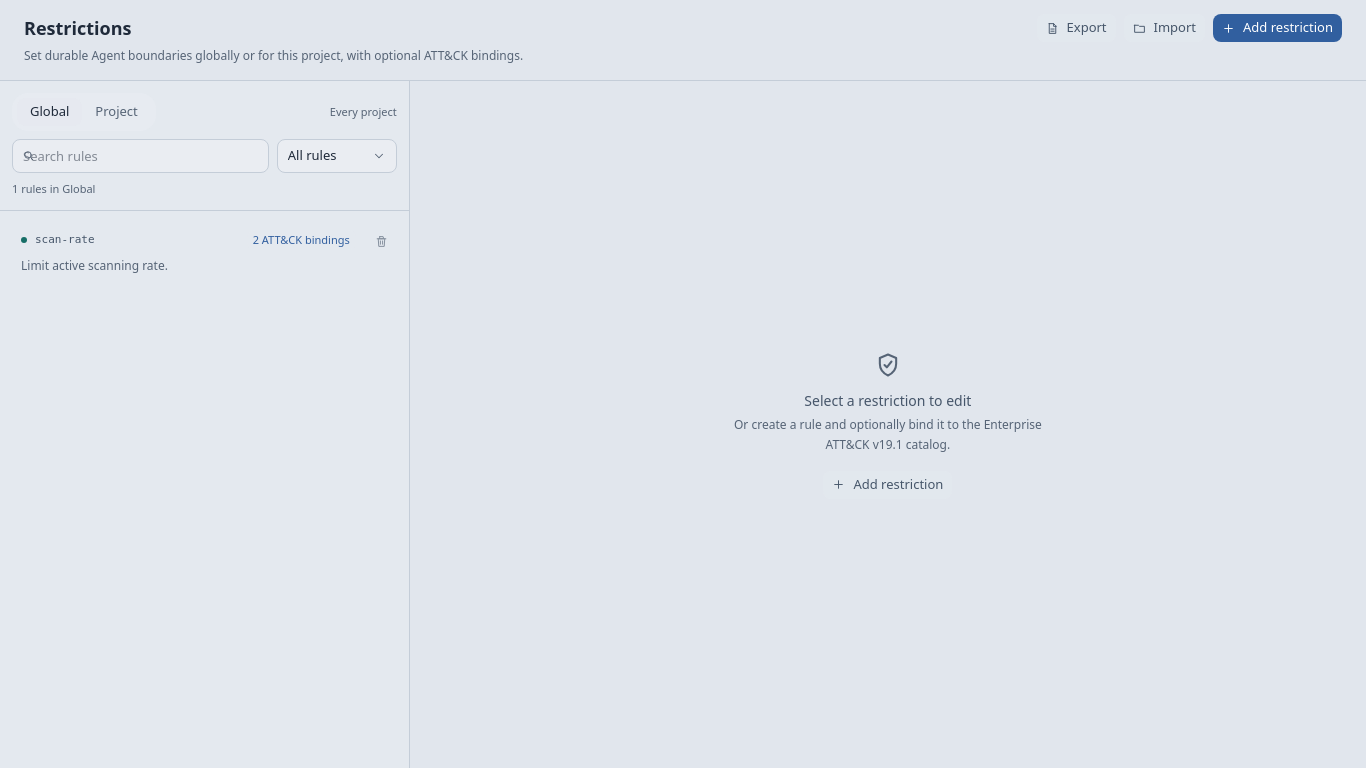
Scenario: AgentInstructionsSettings restriction editor › shows the selected tactic and technique identities in rule details
Step 1. Click the button "scan-rate" → (45, 248), box [13,224,364,282]
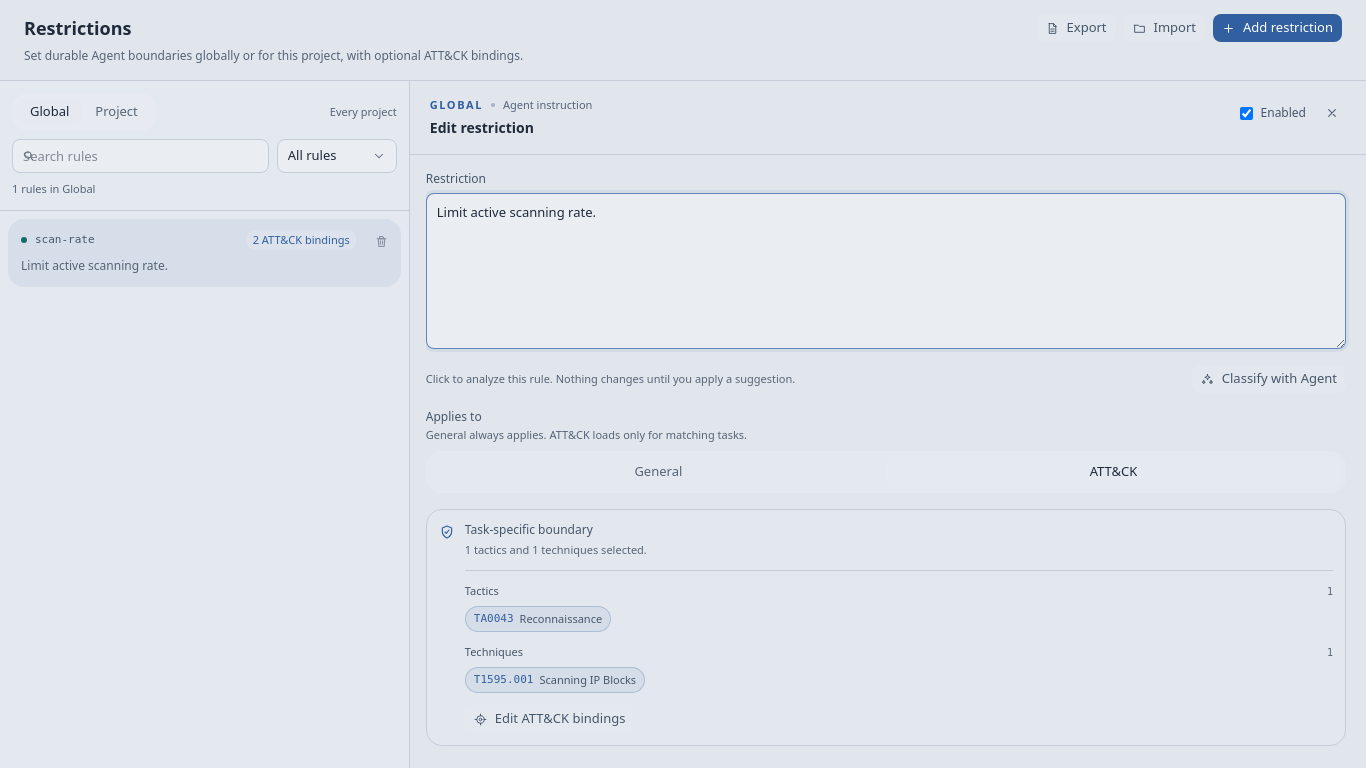
Result: the element "Tactics" shows "TA0043" at [474,612,514,624]
Result: the element "Tactics" shows "Reconnaissance" at [520,610,602,626]
Result: the element "Techniques" shows "T1595.001" at [474,672,533,686]
